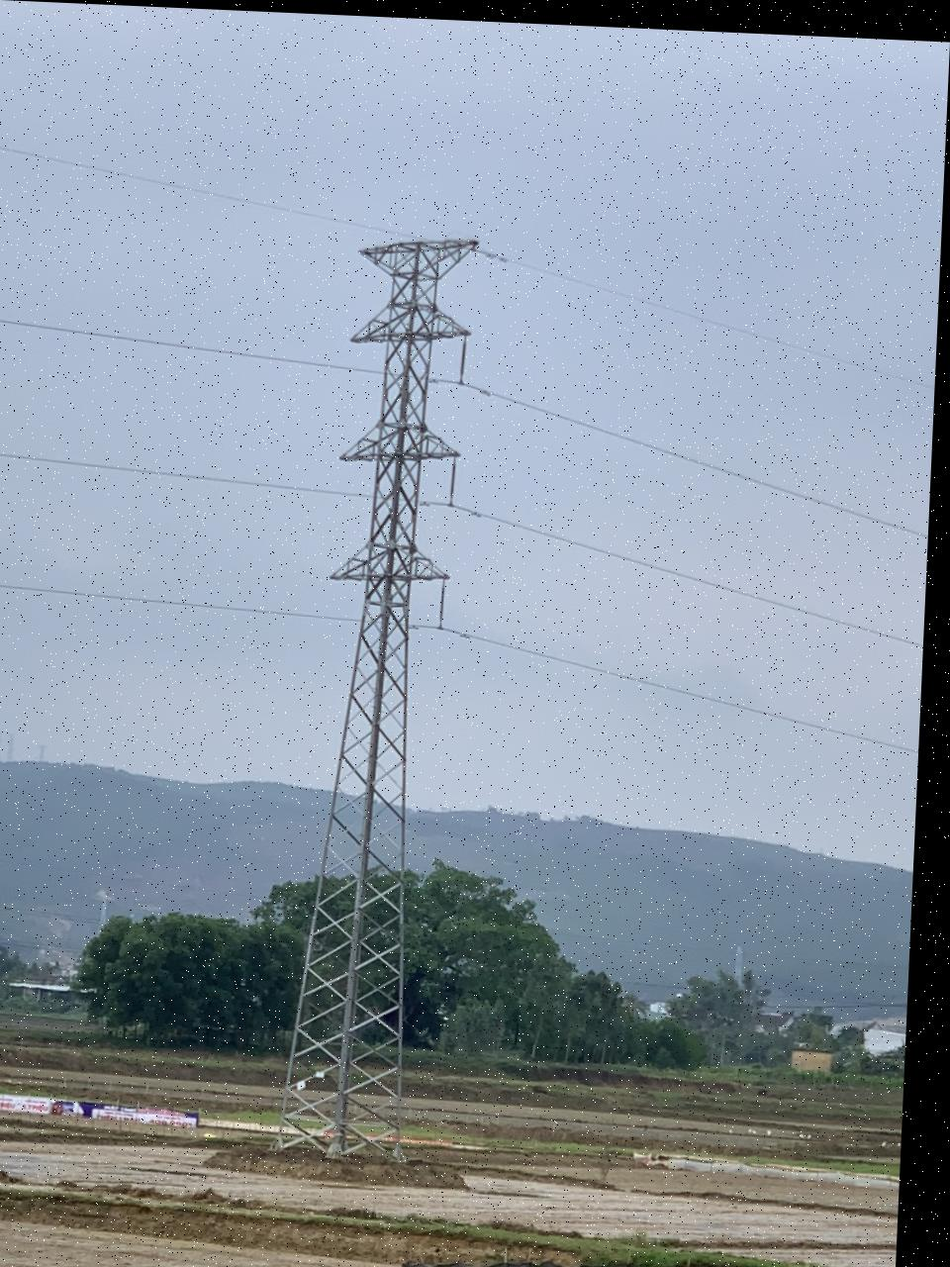tower: (282, 215, 464, 1157)
